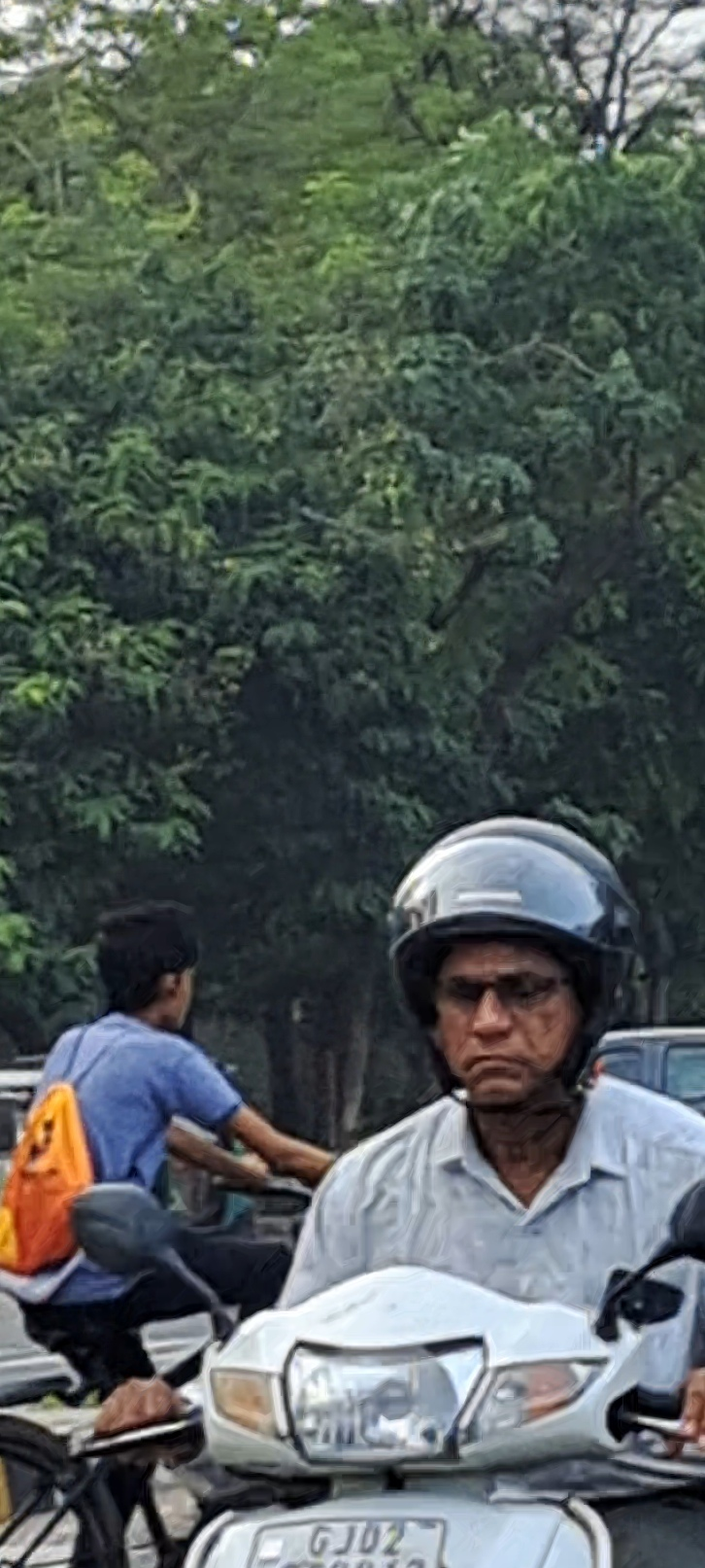BikeWithRider: (49, 755, 705, 1568)
Helmet: (375, 799, 650, 1136)
